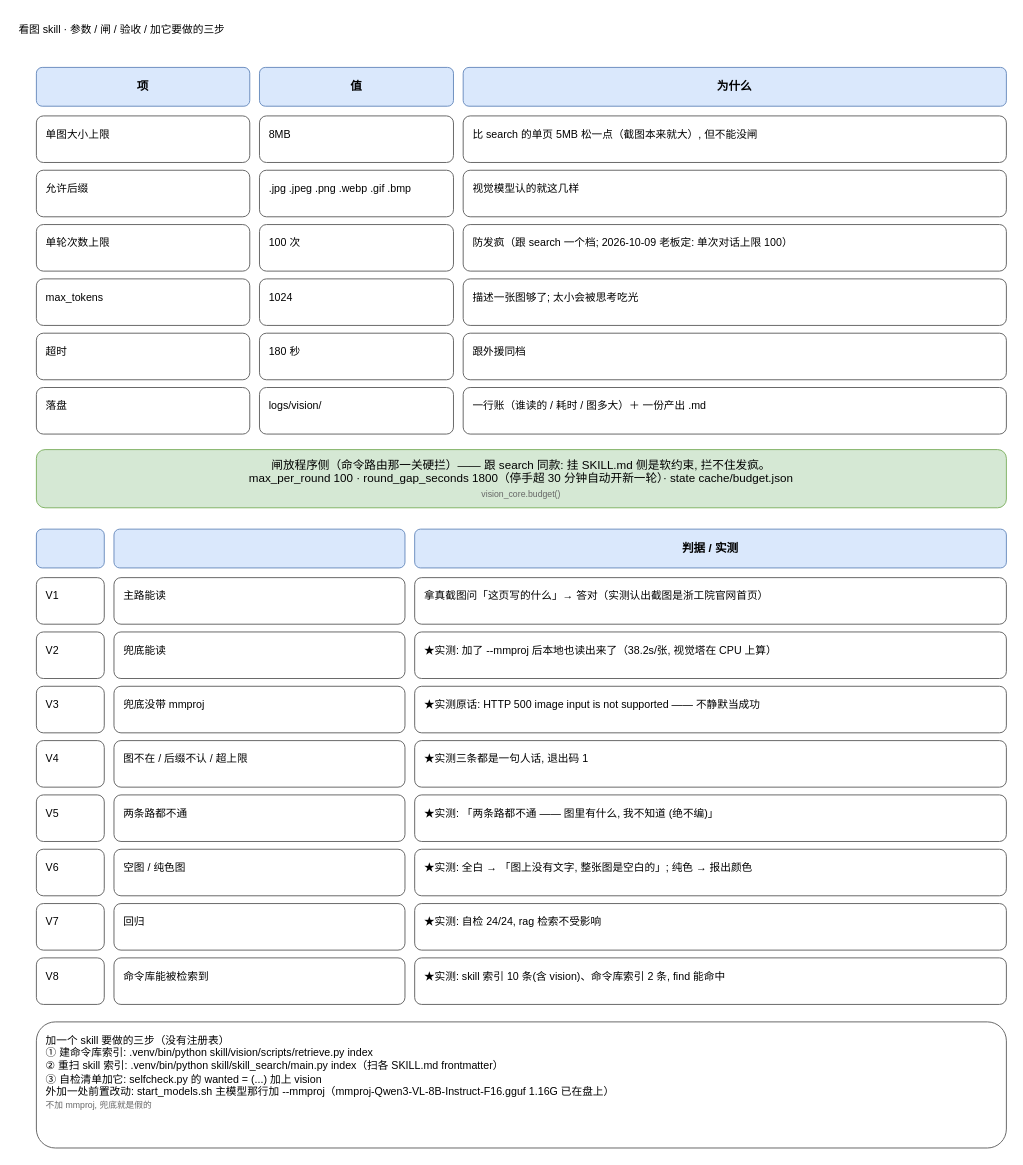
Image size: 1023x1165. Some labels were removed from this diagram. Here are the shapes that lost their labels. From the top down, the centre of each, then its label:
At [69,548]: "编号".
At [259,548]: "验什么".
